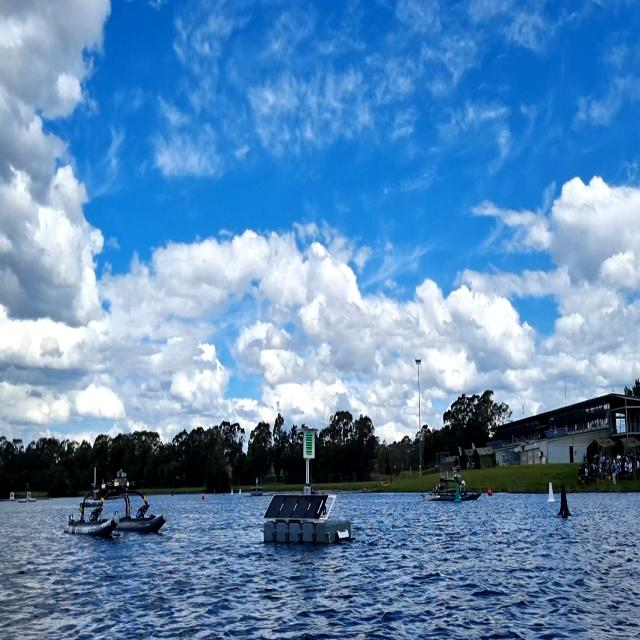led: (304, 432, 314, 457)
